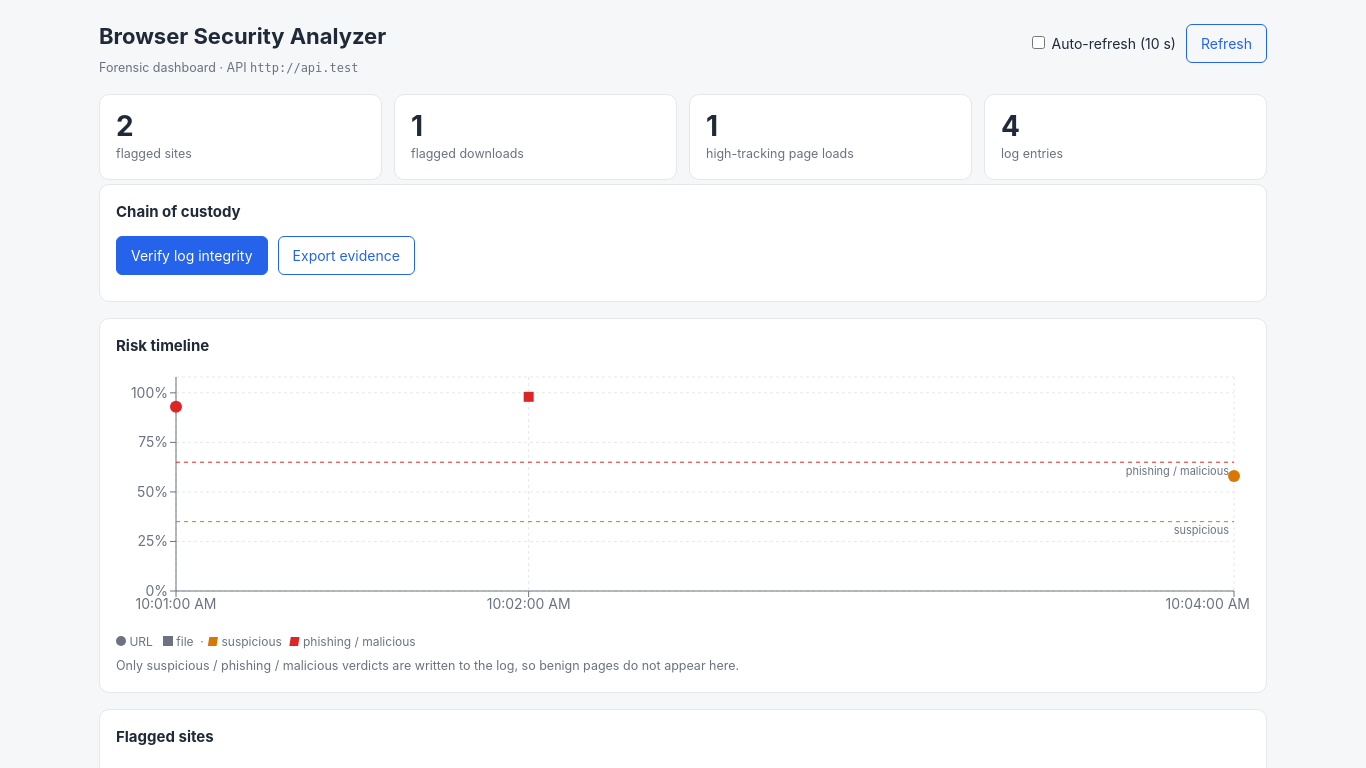
Test: Export evidence › shows an error when the log cannot be fetched for export
The width and height of the screenshot is (1366, 768).
Expected: the text "flagged sites" is shown, left=116, top=146, right=192, bottom=160
Click the button "Export evidence". click: (346, 255)
box: left=278, top=236, right=415, bottom=275
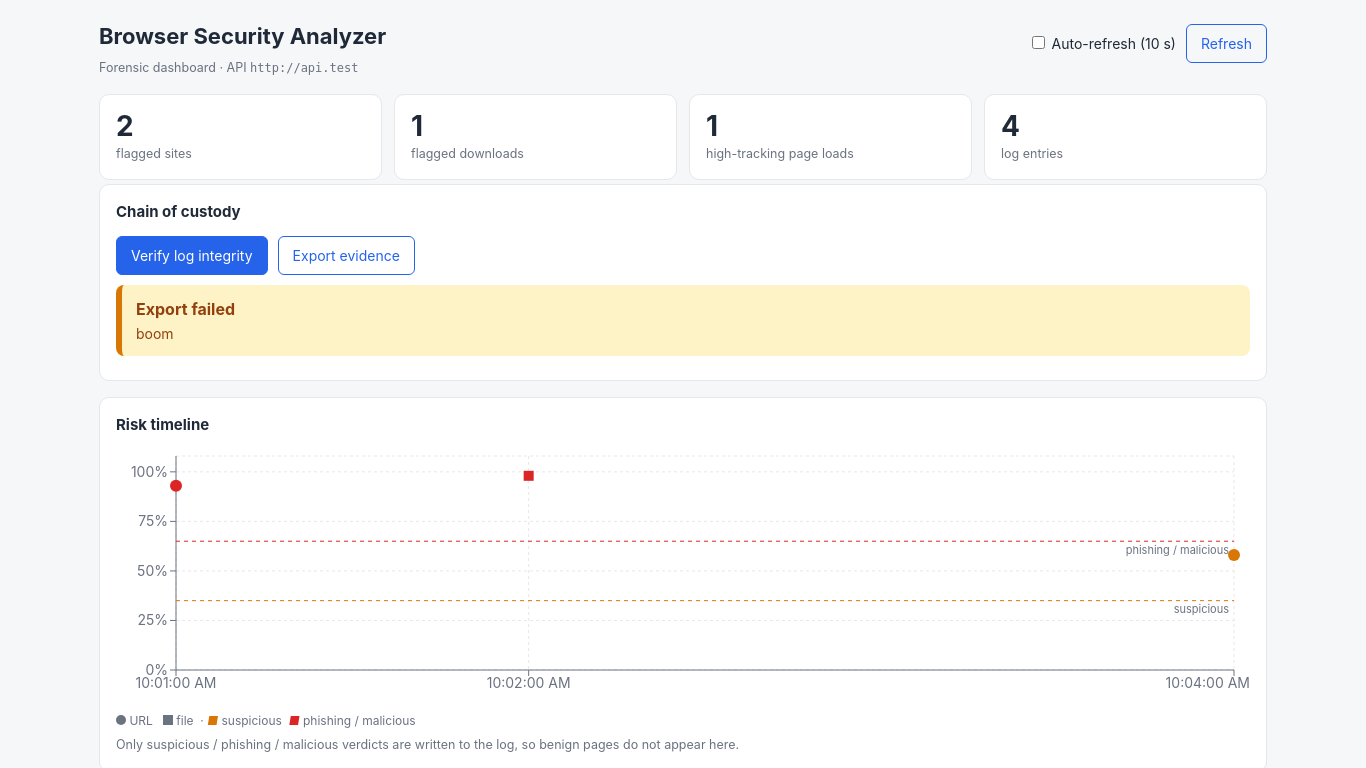
Result: the text "Export failed" is shown at left=136, top=299, right=235, bottom=319
